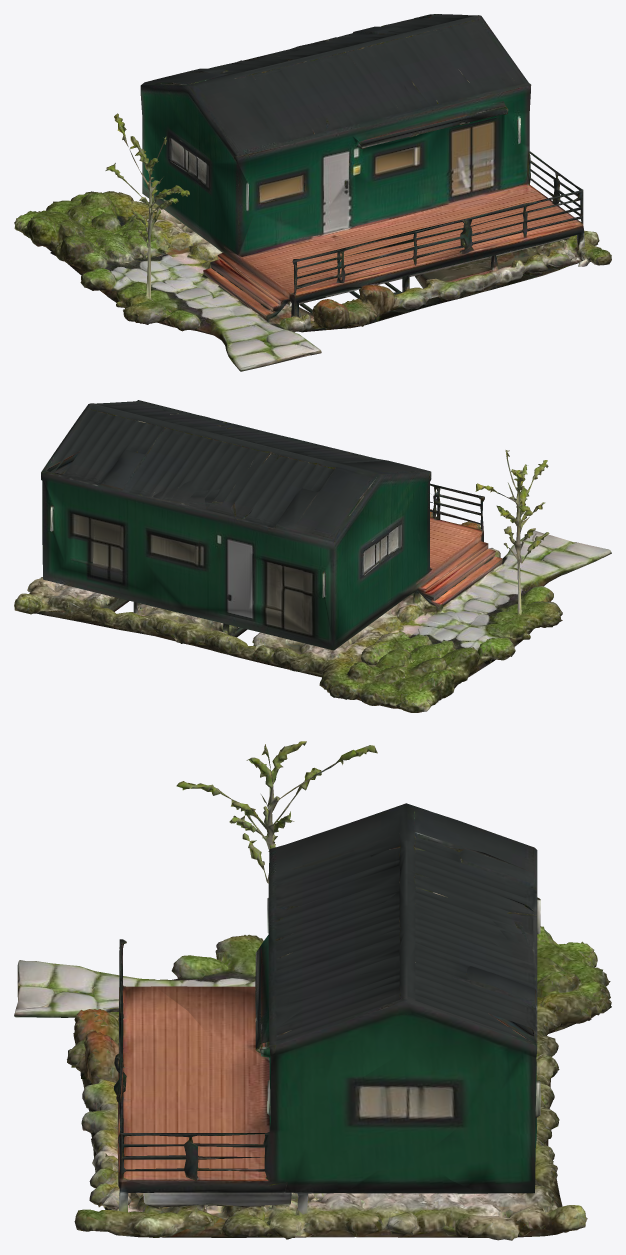
The model's file is forest10g.glb.
3 renders of one model, top to bottom at view 1: azimuth 30°, elevation 25°; view 2: azimuth 150°, elevation 25°; view 3: azimuth 270°, elevation 25°, orthographic. The views are drawn at different scales.
Parts seen in each view (by area): view 1: Mesh_0; view 2: Mesh_0; view 3: Mesh_0.
Part boxes in pixels (x1,y1,x2,y2): Mesh_0: [14, 14, 611, 371]; Mesh_0: [14, 400, 611, 712]; Mesh_0: [14, 741, 611, 1240].
Size of the model in its own units: 1.89 by 0.716 by 1.63.
Materials: 1 (1 with a texture image).
